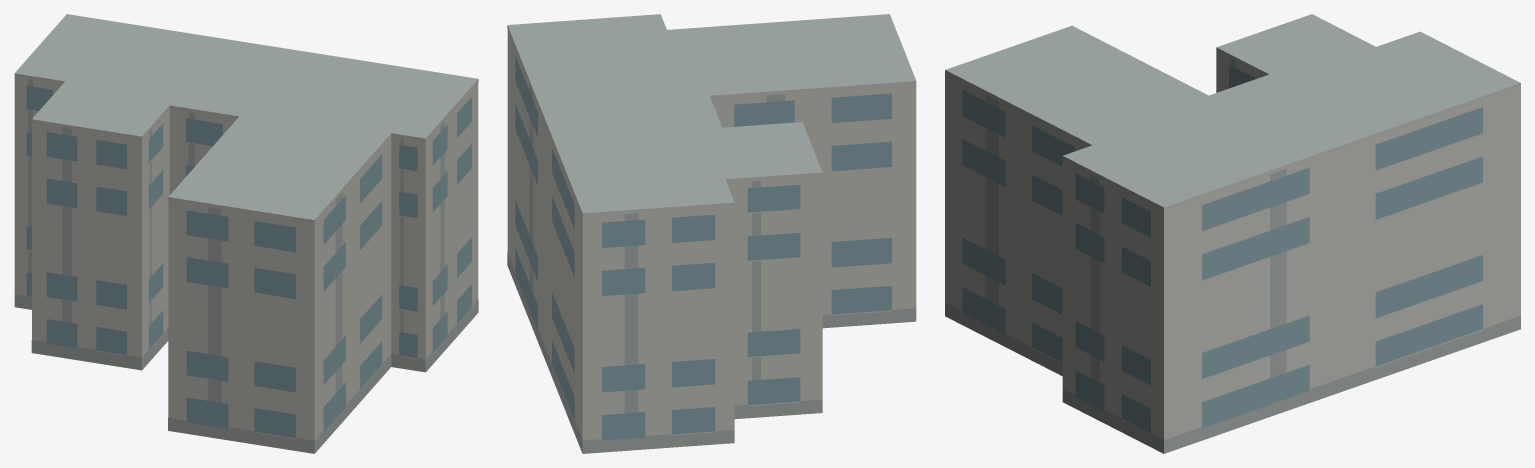
The model's file is residential-b1b78569-6e42-4403-88ab-1fa6169dc898.glb.
3 renders of one model, left to right at view 1: azimuth 30°, elevation 25°; view 2: azimuth 150°, elevation 25°; view 3: azimuth 270°, elevation 25°, orthographic. The views are drawn at different scales.
Parts seen in each view (by area): view 1: residential-b1b78569-6e42-4403-88ab-1fa6169dc898.tmp; view 2: residential-b1b78569-6e42-4403-88ab-1fa6169dc898.tmp; view 3: residential-b1b78569-6e42-4403-88ab-1fa6169dc898.tmp.
Part boxes in pixels (x1=…): residential-b1b78569-6e42-4403-88ab-1fa6169dc898.tmp: x1=14, y1=14, x2=478, y2=453; residential-b1b78569-6e42-4403-88ab-1fa6169dc898.tmp: x1=507, y1=14, x2=916, y2=453; residential-b1b78569-6e42-4403-88ab-1fa6169dc898.tmp: x1=945, y1=14, x2=1520, y2=453.
Bounding box in the file's own units: 25.7 × 15.25 × 32.3.
